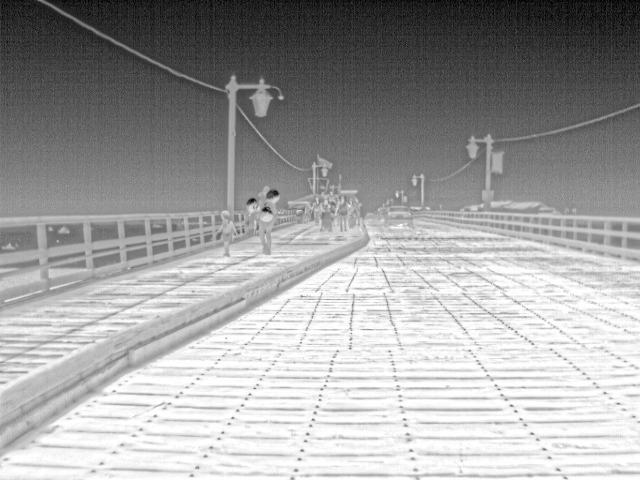car: (384, 204, 415, 229)
person: (260, 186, 276, 253), (219, 210, 237, 254), (335, 196, 350, 229), (311, 196, 324, 225), (352, 196, 364, 225), (320, 196, 335, 213)
